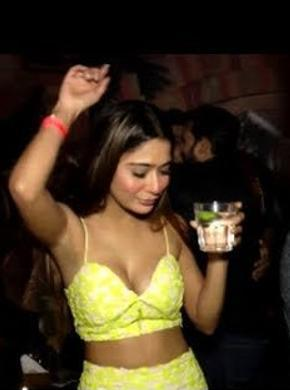Drunk: (119, 141, 169, 212)
